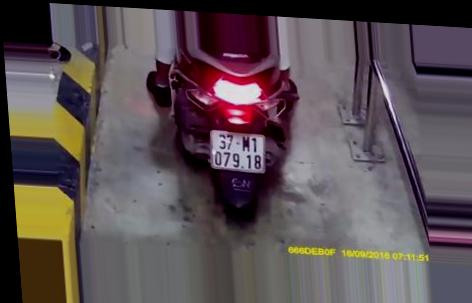License_Plate: (201, 125, 271, 179)
